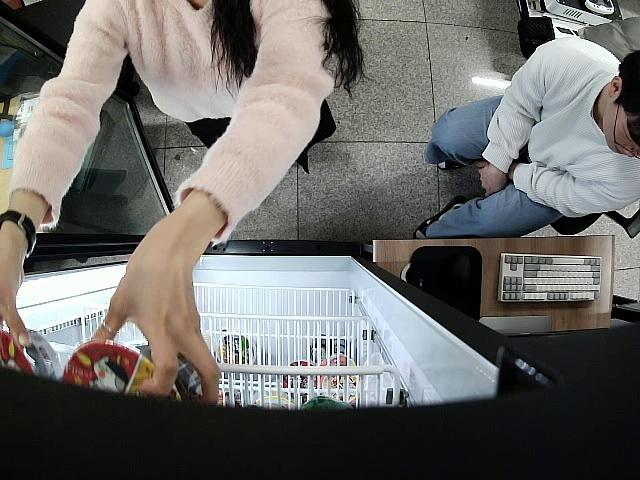00_hand: (88, 243, 223, 407), (0, 233, 36, 350)
07_buldak_L: (63, 341, 205, 405), (0, 323, 62, 386)
